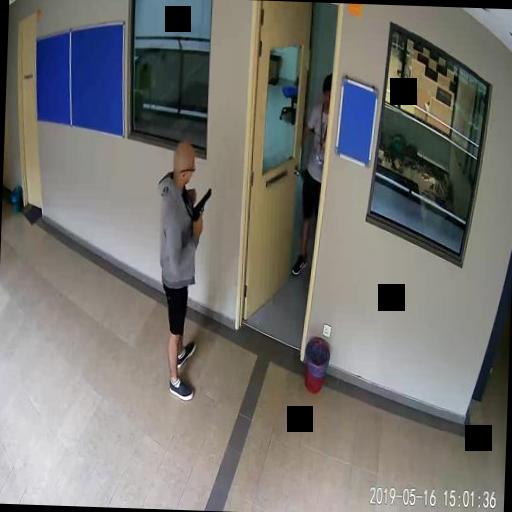Handgun: (192, 186, 210, 226)
